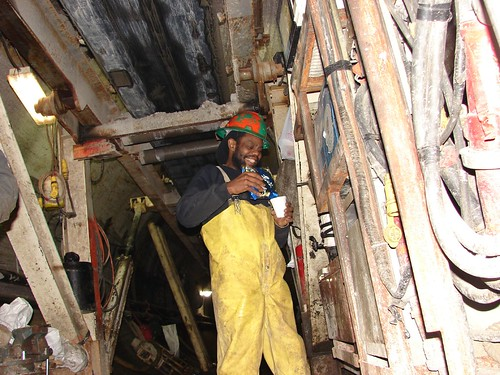person hardhat: (179, 112, 325, 375)
